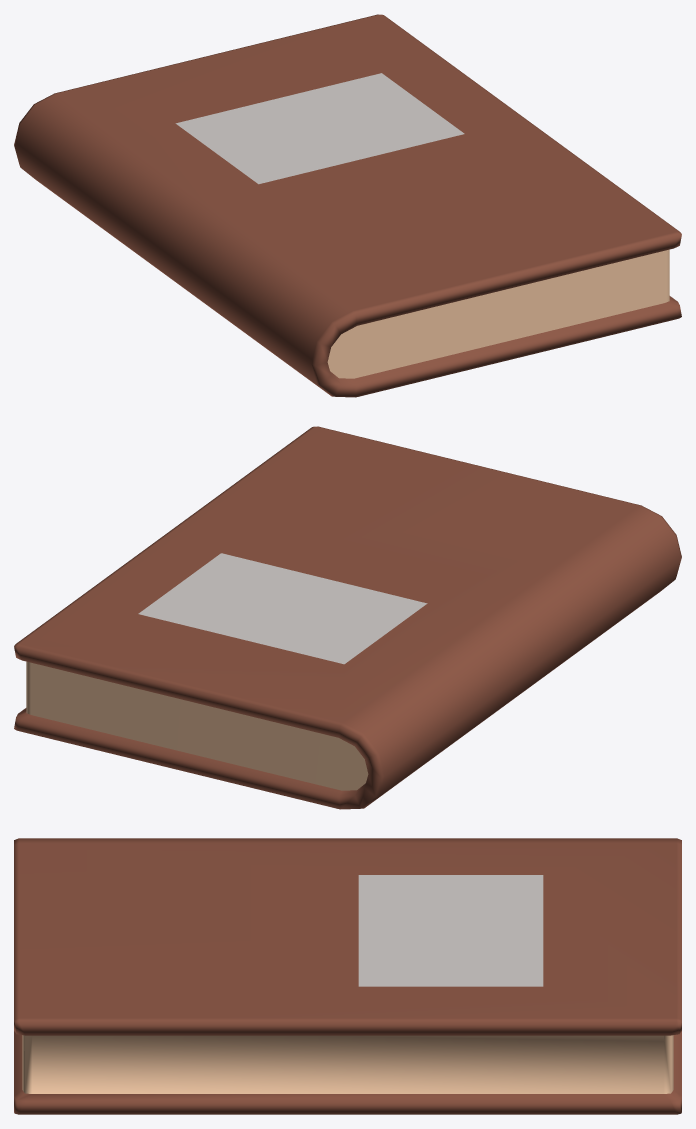
File: Book_07.glb
3 renders of one model, top to bottom at view 1: azimuth 30°, elevation 25°; view 2: azimuth 150°, elevation 25°; view 3: azimuth 270°, elevation 25°, orthographic. The views are drawn at different scales.
Visible parts, largest first — view 1: Book_07; view 2: Book_07; view 3: Book_07.
Part boxes in pixels (x1=…): Book_07: x1=14, y1=14, x2=681, y2=397; Book_07: x1=14, y1=426, x2=681, y2=809; Book_07: x1=14, y1=838, x2=681, y2=1114.
Bounding box in the file's own units: 0.2246 × 0.0504 × 0.3173.
Materials: 1 (1 with a texture image).
